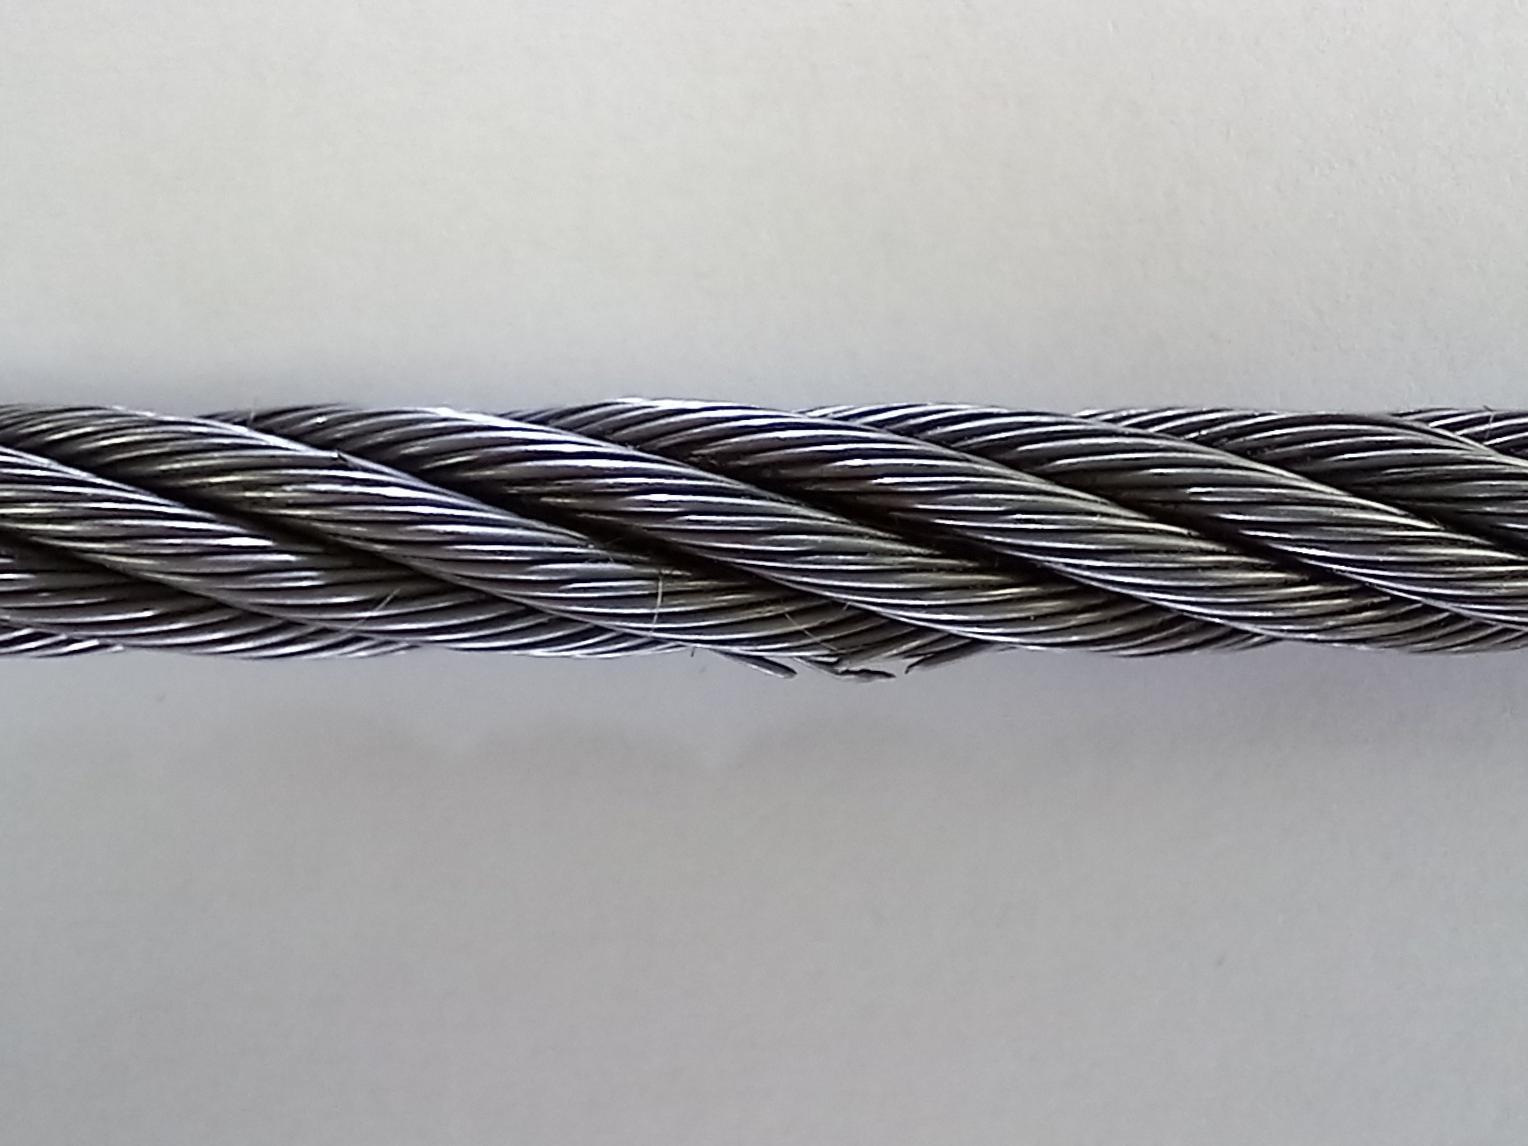break: (687, 621, 1018, 692)
